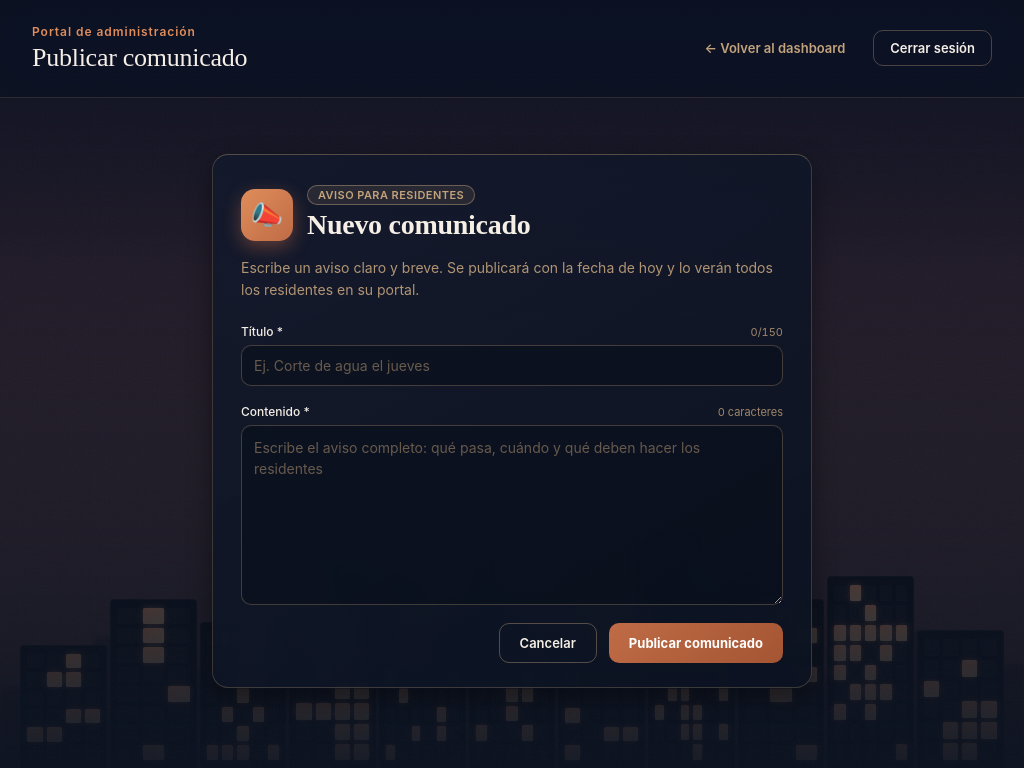
Scenario: CU-10 PublicarComunicadoPage › publica el comunicado (sin espacios sobrantes), confirma y limpia el formulario
The width and height of the screenshot is (1024, 768).
Step 1. Type "  Corte de agua  " into the field labelled "Título *" → (512, 366), box [241,345,783,386]
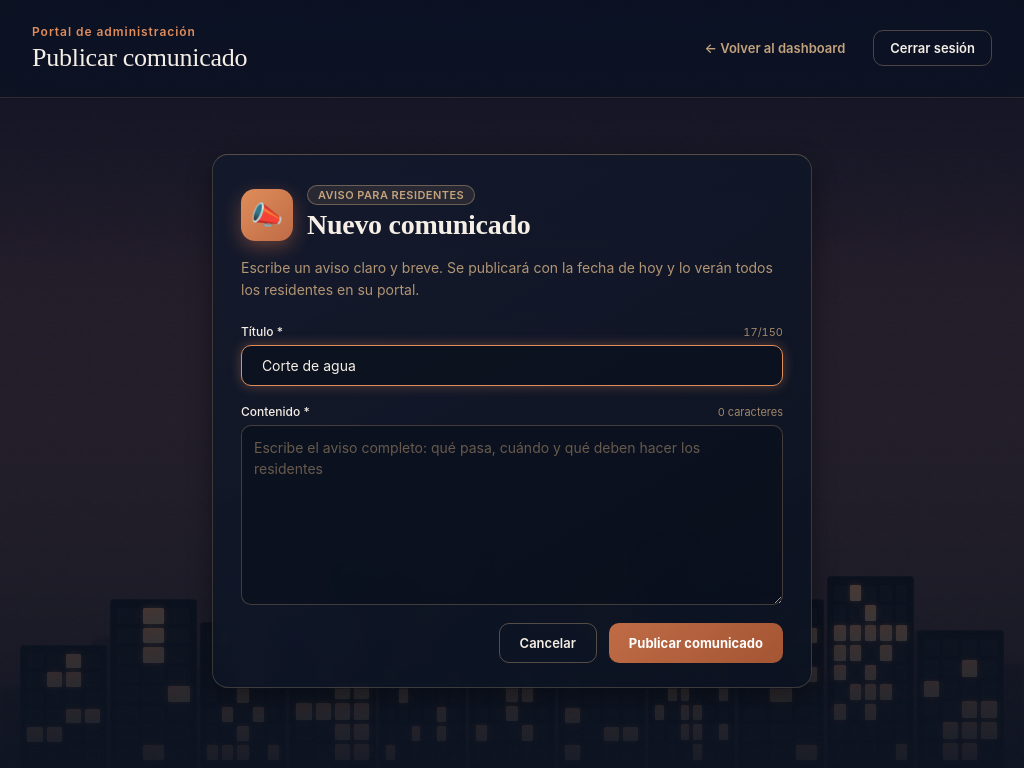
Step 2. Type "El jueves de 9 a 13 h" into the text box labelled "Contenido *" → (512, 515), box [241,425,783,605]
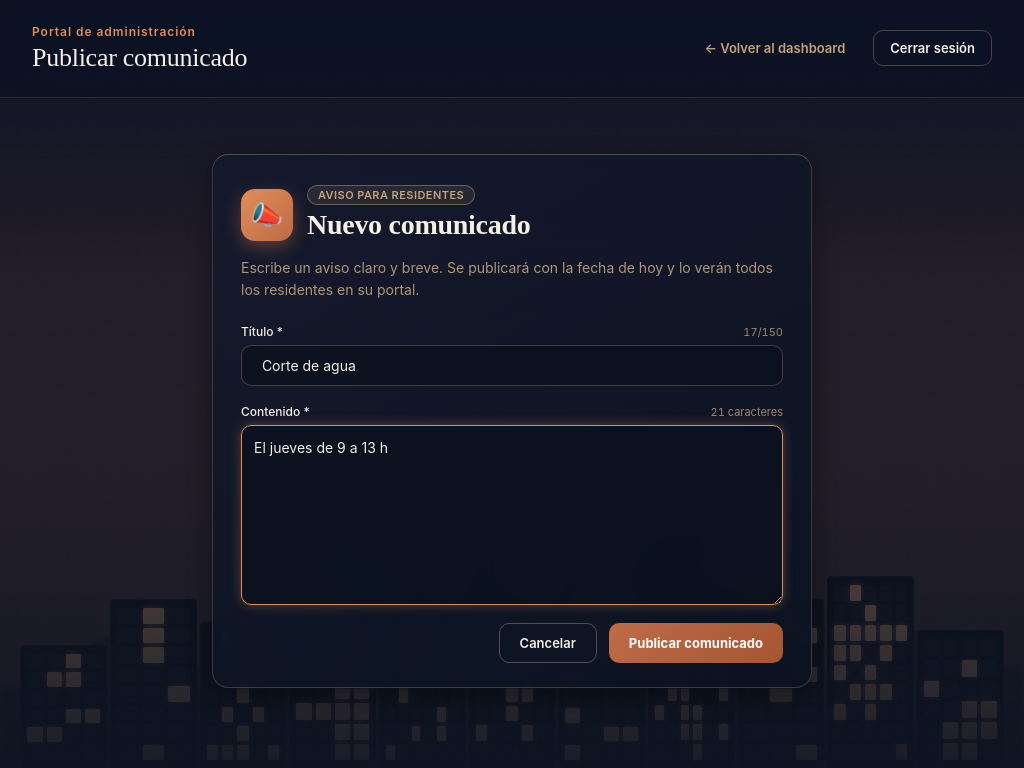
Step 3. Click the button "Publicar comunicado" → (696, 643), box [609,623,783,663]
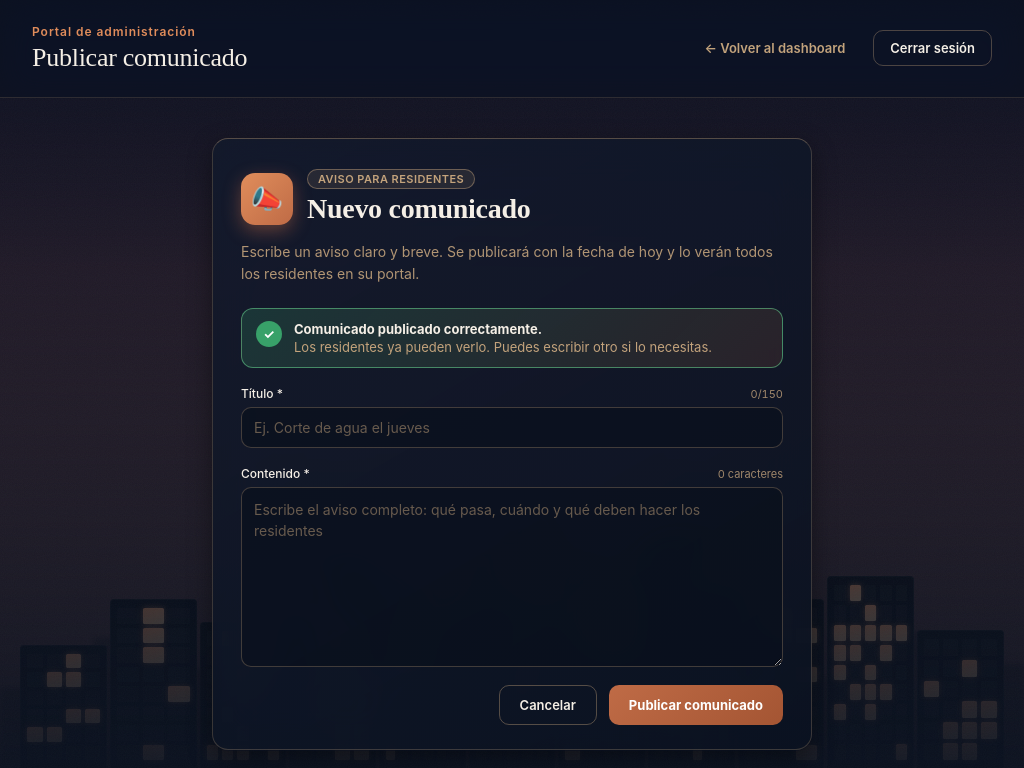
Expected: the message shows "Comunicado publicado correctamente.", [294,322,542,338]
Expected: the field labelled "Título *" is empty, [241,408,783,448]
Expected: the text box labelled "Contenido *" is empty, [241,488,783,668]
